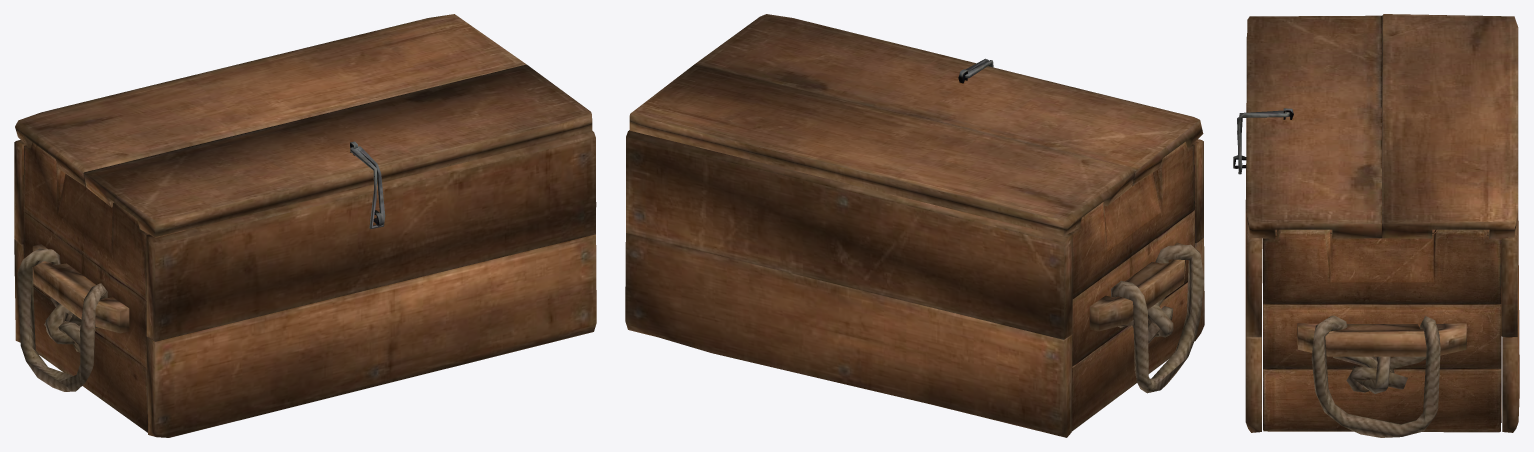
The model's file is wooden_crate_01.glb.
3 views of the same model, side by side, from view 1: azimuth 30°, elevation 25°; view 2: azimuth 150°, elevation 25°; view 3: azimuth 270°, elevation 25° (orthographic). The views are drawn at different scales.
Parts seen in each view (by area): view 1: wooden_crate_01, wooden_crate_01_lid, wooden_crate_01_latch; view 2: wooden_crate_01, wooden_crate_01_lid; view 3: wooden_crate_01_lid, wooden_crate_01, wooden_crate_01_latch.
Part boxes in pixels (x1,y1,x2,y2): wooden_crate_01: [14, 131, 596, 437]; wooden_crate_01_lid: [15, 14, 592, 237]; wooden_crate_01_latch: [350, 146, 385, 228]; wooden_crate_01: [625, 130, 1204, 437]; wooden_crate_01_lid: [629, 14, 1203, 236]; wooden_crate_01_lid: [1246, 14, 1518, 239]; wooden_crate_01: [1233, 37, 1519, 437]; wooden_crate_01_latch: [1237, 110, 1289, 174].
Bounding box in the file's own units: 0.8245 × 0.3478 × 0.4071.
1 material, 1 textured.
